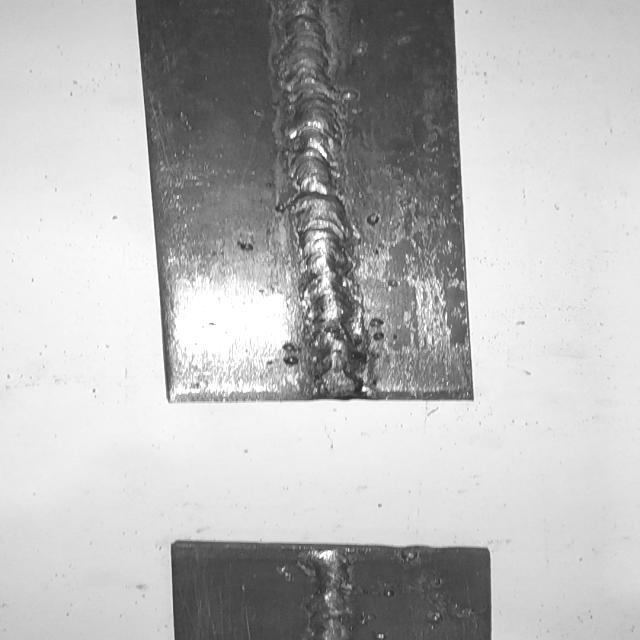Welding Line: (268, 0, 376, 393), (294, 546, 356, 640)
Workpiece: (123, 0, 488, 410), (162, 536, 504, 640)
